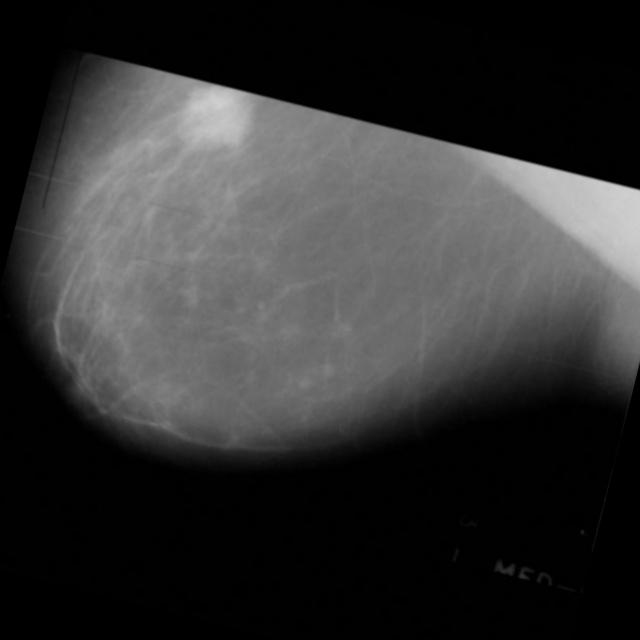MISC: (162, 66, 266, 170)
